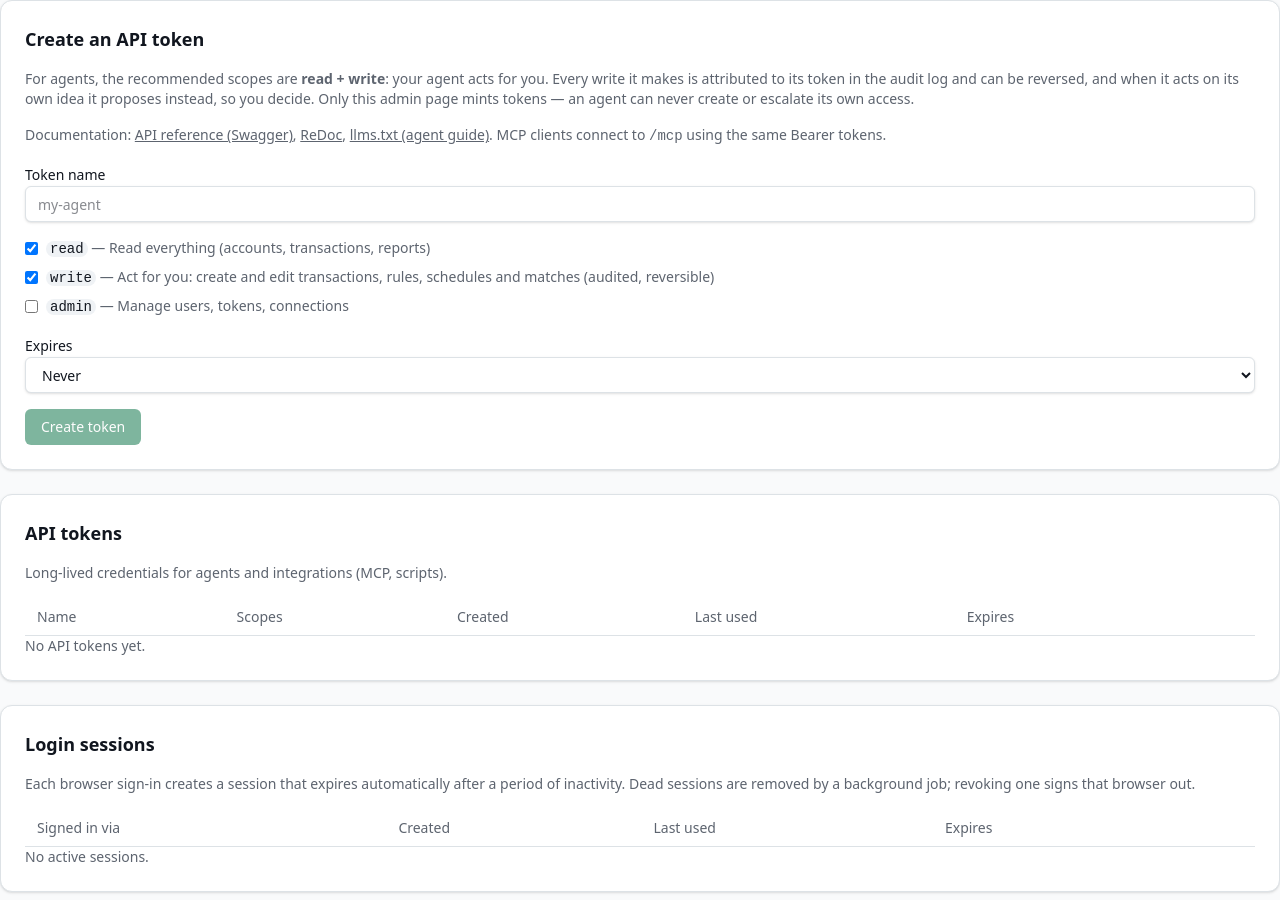
Tokens › mints a read + write token by default and shows the secret once
Expected: the text "No API tokens yet." is shown, top-left (25, 636), bottom-right (145, 655)
Type "ci-agent" into the field at [640, 204], box top-left (25, 186), bottom-right (1255, 222)
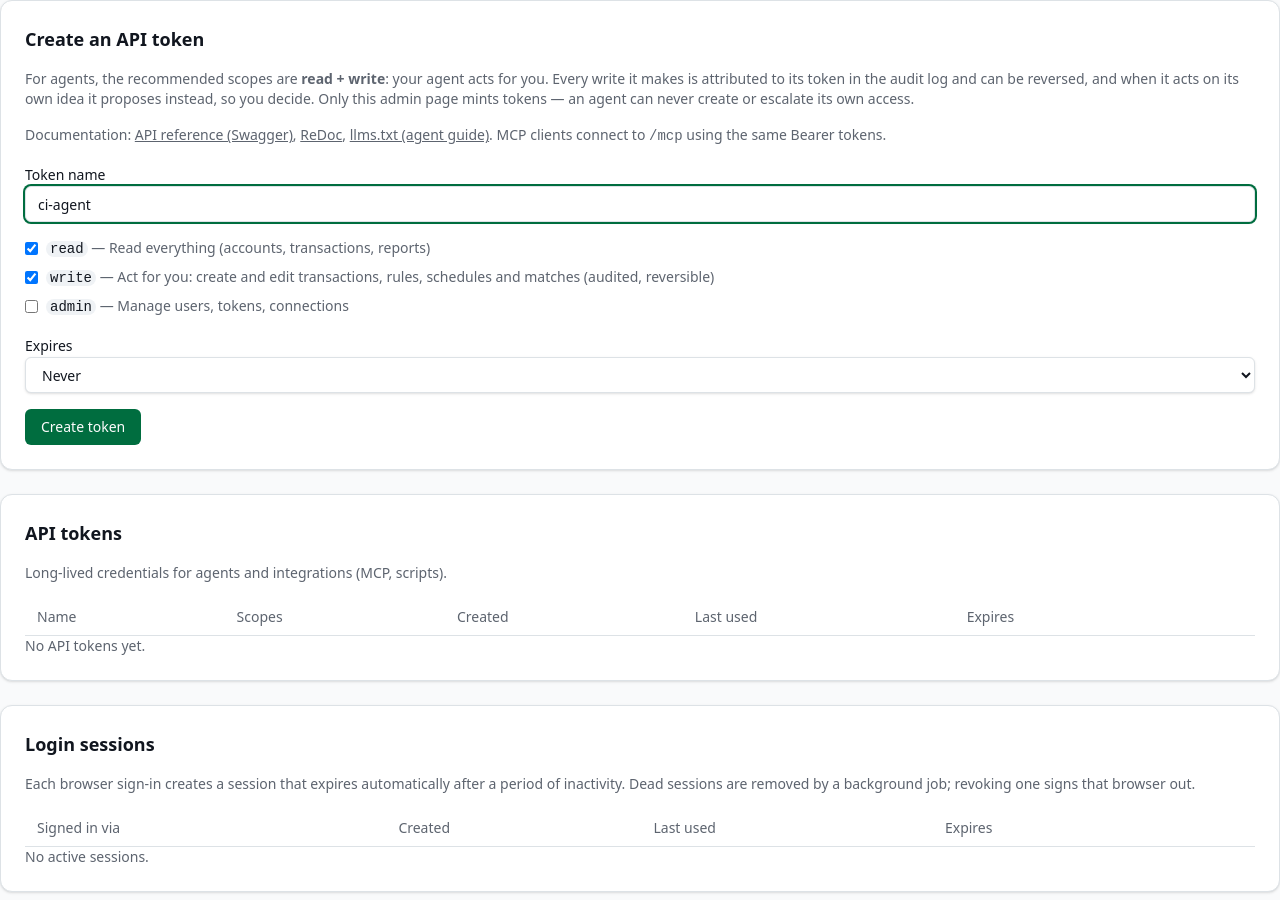
Click the button "Create token" at [83, 427], box top-left (25, 409), bottom-right (141, 445)
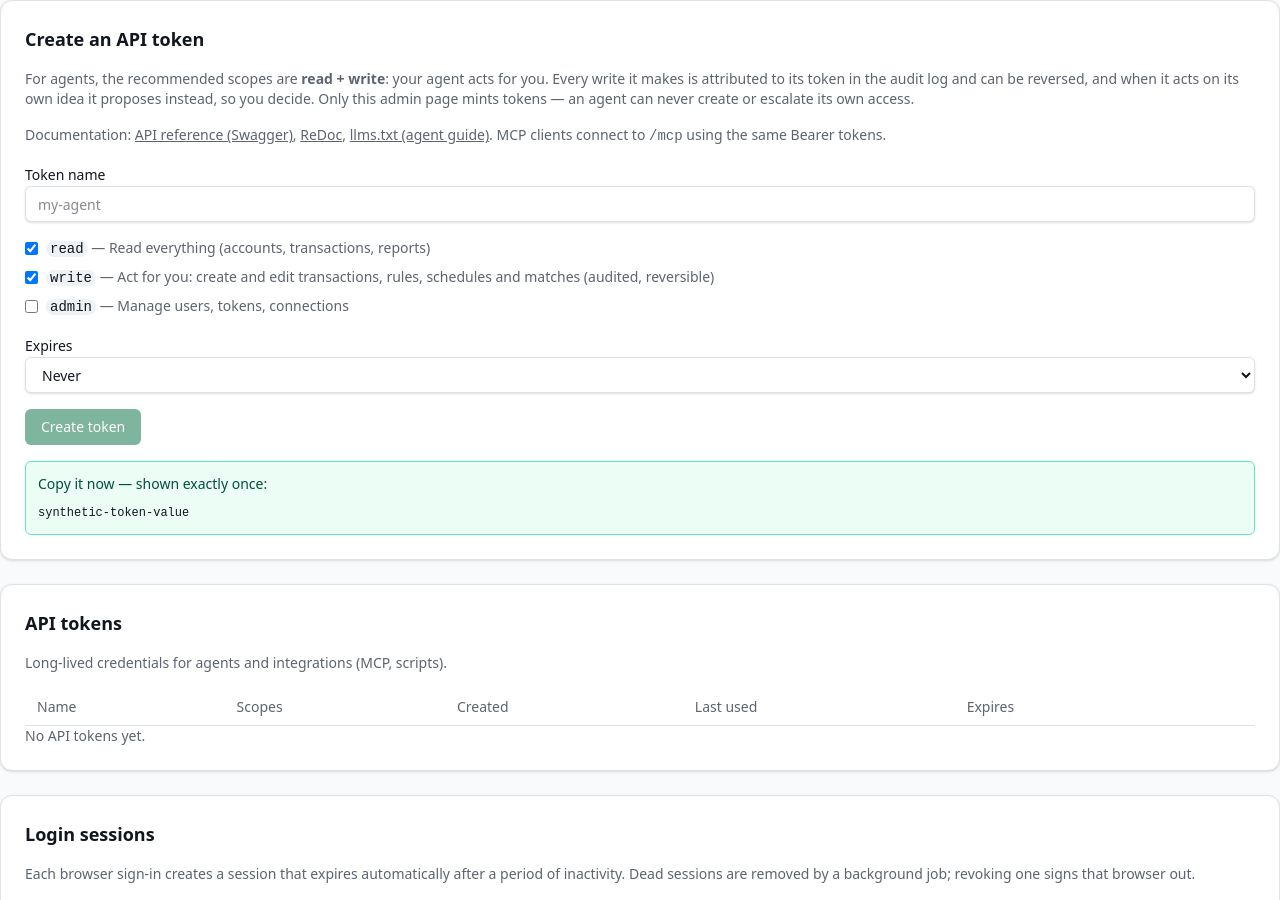
Expected: the text "synthetic-token-value" is shown, top-left (38, 506), bottom-right (189, 520)
Expected: the field is empty, top-left (25, 186), bottom-right (1255, 222)
